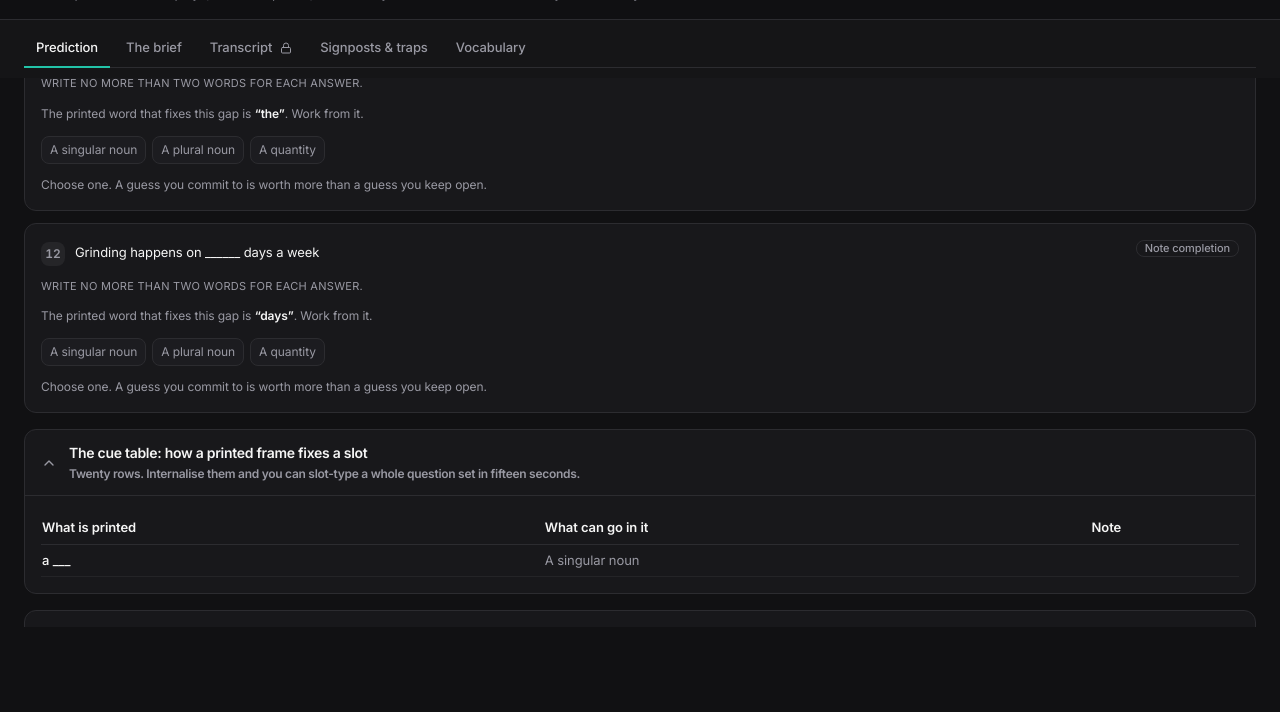
the listening coach › still runs the drill while the gate is shut, and marks nothing
(page scrolled)
Click the button "A quantity" below "12": click(288, 352) [250, 338, 325, 366]
(page scrolled)
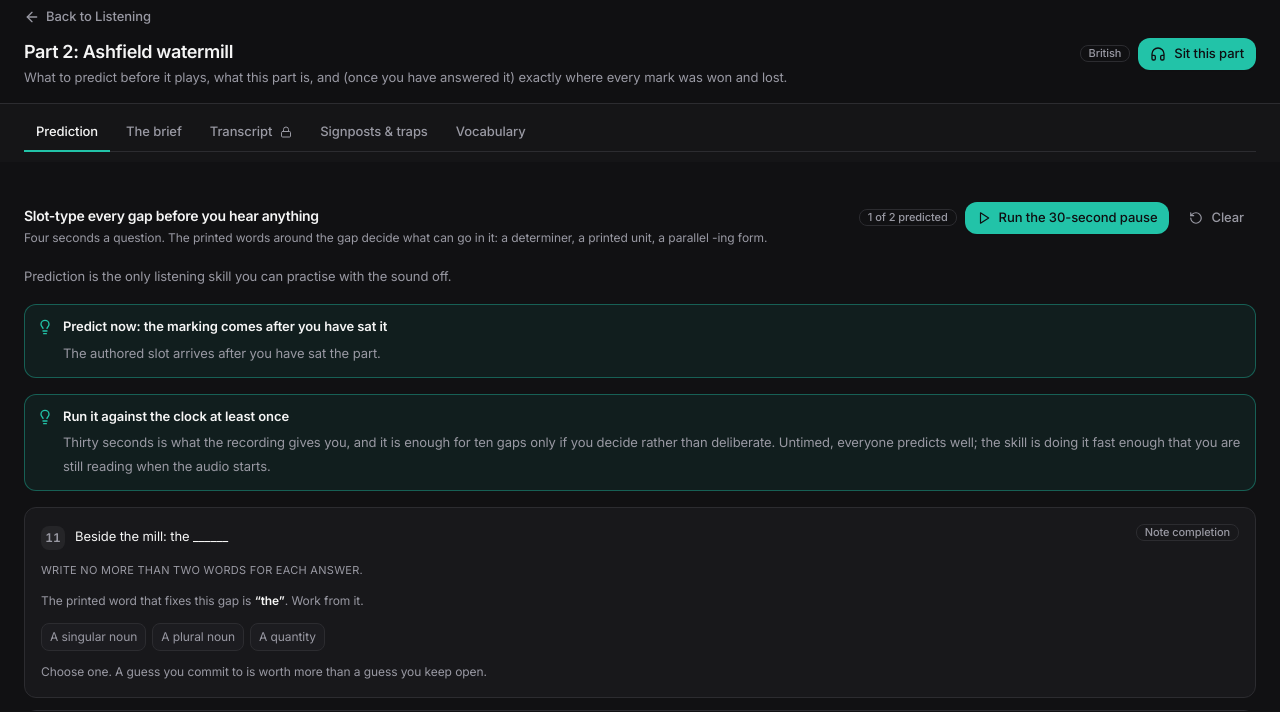
expect the text "The authored slot arrives after you have sat the part." is shown: met, box [63, 341, 387, 365]
